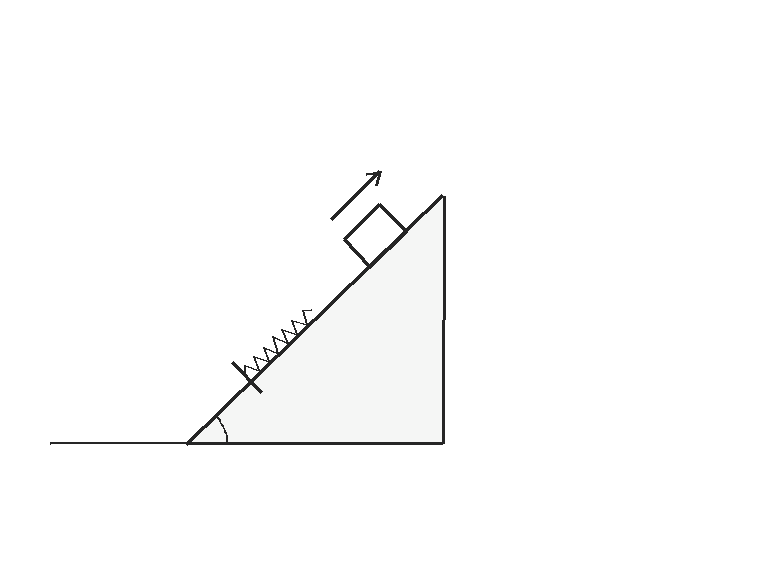block: (342, 202, 408, 269)
ramp: (185, 194, 445, 445)
spring: (243, 308, 313, 377)
